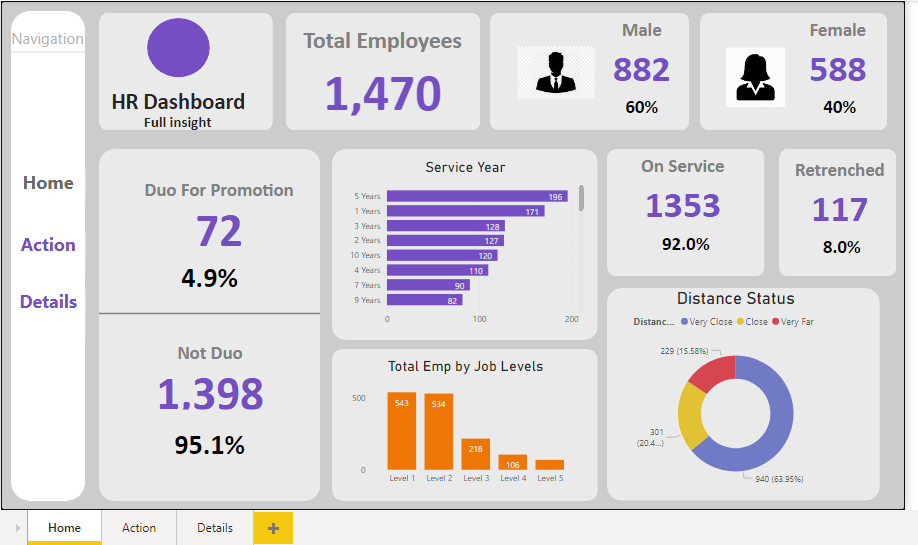

The dashboard page shown, as its layout file describes it:
{"tool":"powerbi","page":{"name":"Home","canvas":[1280,720],"ordinal":0},"visuals":[{"type":"shape","box":[14.1,14.1,104.7,693.1],"z":0},{"type":"shape","box":[138.6,17,246.1,165.5],"z":1000},{"type":"shape","box":[403.1,16.8,275.5,166.3],"z":2000},{"type":"shape","box":[692.1,16.8,282.2,166.3],"z":3000},{"type":"shape","box":[989.4,16.8,265.4,166.3],"z":4000},{"type":"shape","box":[138.6,209.4,312.6,497.9],"z":5000},{"type":"shape","box":[468.7,210,376.3,270.4],"z":6000},{"type":"shape","box":[468.7,492.2,376.3,215],"z":7000},{"type":"shape","box":[856.7,406.5,386.4,300.7],"z":8000},{"type":"shape","box":[856.7,210,223.4,179.7],"z":9000},{"type":"shape","box":[1100.3,210,166.3,179.7],"z":10000},{"type":"textbox","box":[119.3,117.6,263.7,120.9],"z":11000},{"type":"textbox","box":[79,152.9,346,60.5],"z":12000},{"type":"shape","box":[206.6,23.5,89,84],"z":13000},{"type":"card","title":"Total Employees","fields":{"Values":["All Measures.Total Emp"]},"box":[414.9,33.6,250.3,132.7],"z":14000},{"type":"card","title":"Male","fields":{"Values":["All Measures.Male"]},"box":[823.1,23.5,166.3,102.5],"z":15000},{"type":"card","title":"MALE","fields":{"Values":["All Measures.% male"]},"box":[823.1,107.5,166.3,84],"z":16000},{"type":"card","title":"MALE","fields":{"Values":["All Measures.% female"]},"box":[1103.6,107.5,166.3,84],"z":17000},{"type":"card","title":"Female","fields":{"Values":["All Measures.Female"]},"box":[1100.3,23.5,166.3,102.5],"z":18000},{"type":"image","box":[725.7,33.6,119.3,132.7],"z":19000},{"type":"image","box":[1011.2,60.5,110.9,94.1],"z":20000},{"type":"card","title":"Duo For Promotion","fields":{"Values":["All Measures.Duo for promotion"]},"box":[165.5,250.4,285.7,101.8],"z":21000},{"type":"card","title":"MALE","fields":{"Values":["All Measures.% Due For Promotion"]},"box":[211.7,346,166.3,84],"z":22000},{"type":"card","title":"Not Duo","fields":{"Values":["All Measures.Not Due"]},"box":[152.9,480.4,285.6,102.5],"z":23000},{"type":"card","title":"MALE","fields":{"Values":["All Measures.% Not Due"]},"box":[211.7,582.9,166.3,84],"z":24000},{"type":"shape","box":[138.6,312.6,312.6,258.9],"z":25000},{"type":"barChart","title":"Service Year","fields":{"Category":["HR Analytics Data.Service Year"],"Y":["All Measures.Total Emp"]},"box":[483.8,223.4,346,245.2],"z":26000},{"type":"columnChart","fields":{"Category":["HR Analytics Data.Job Levels "],"Y":["All Measures.Total Emp"]},"box":[490.5,505.6,332.6,188.1],"z":27000},{"type":"card","title":"On Service","fields":{"Values":["All Measures.On Service"]},"box":[881.8,216.6,166.3,102.5],"z":28000},{"type":"card","title":"MALE","fields":{"Values":["All Measures.% On Servie"]},"box":[885.2,300.6,166.3,84],"z":29000},{"type":"card","title":"Retrenched","fields":{"Values":["All Measures.Retrenched"]},"box":[1103.5,221.6,166.3,102.5],"z":30000},{"type":"card","title":"MALE","fields":{"Values":["All Measures.% Retrenched"]},"box":[1106.8,305.6,166.3,84],"z":31000},{"type":"donutChart","title":"Distance Status","fields":{"Category":["HR Analytics Data.Distance Status"],"Y":["All Measures.Total Emp"]},"box":[890.3,406.5,299,299],"z":32000},{"type":"actionButton","title":"Action","box":[14.1,326.8,104.7,62.2],"z":33000},{"type":"textbox","box":[4.2,32.5,123.1,52.3],"z":34000},{"type":"shape","box":[14.1,59.4,104.7,25.5],"z":35000},{"type":"actionButton","title":"Details ","box":[14.1,407.4,104.7,72.1],"z":36000},{"type":"actionButton","title":"Home","box":[14.1,239.1,104.7,50.9],"z":37000}]}

Visuals, with their boxes on the page's 1280x720 design canvas (x1, y1, x2, y2). These are canvas units, not pixel positions in the 918x545 screenshot, which may show the page scaled, cropped or inside an application window:
shape: {"left": 14, "top": 14, "right": 119, "bottom": 707}
shape: {"left": 139, "top": 17, "right": 385, "bottom": 182}
shape: {"left": 403, "top": 17, "right": 679, "bottom": 183}
shape: {"left": 692, "top": 17, "right": 974, "bottom": 183}
shape: {"left": 989, "top": 17, "right": 1255, "bottom": 183}
shape: {"left": 139, "top": 209, "right": 451, "bottom": 707}
shape: {"left": 469, "top": 210, "right": 845, "bottom": 480}
shape: {"left": 469, "top": 492, "right": 845, "bottom": 707}
shape: {"left": 857, "top": 406, "right": 1243, "bottom": 707}
shape: {"left": 857, "top": 210, "right": 1080, "bottom": 390}
shape: {"left": 1100, "top": 210, "right": 1267, "bottom": 390}
textbox: {"left": 119, "top": 118, "right": 383, "bottom": 238}
textbox: {"left": 79, "top": 153, "right": 425, "bottom": 213}
shape: {"left": 207, "top": 24, "right": 296, "bottom": 108}
"Total Employees" card: {"left": 415, "top": 34, "right": 665, "bottom": 166}
"Male" card: {"left": 823, "top": 24, "right": 989, "bottom": 126}
"MALE" card: {"left": 823, "top": 108, "right": 989, "bottom": 192}
"MALE" card: {"left": 1104, "top": 108, "right": 1270, "bottom": 192}
"Female" card: {"left": 1100, "top": 24, "right": 1267, "bottom": 126}
image: {"left": 726, "top": 34, "right": 845, "bottom": 166}
image: {"left": 1011, "top": 60, "right": 1122, "bottom": 155}
"Duo For Promotion" card: {"left": 166, "top": 250, "right": 451, "bottom": 352}
"MALE" card: {"left": 212, "top": 346, "right": 378, "bottom": 430}
"Not Duo" card: {"left": 153, "top": 480, "right": 438, "bottom": 583}
"MALE" card: {"left": 212, "top": 583, "right": 378, "bottom": 667}
shape: {"left": 139, "top": 313, "right": 451, "bottom": 572}
"Service Year" barChart: {"left": 484, "top": 223, "right": 830, "bottom": 469}
columnChart - HR Analytics Data.Job Levels  x All Measures.Total Emp: {"left": 490, "top": 506, "right": 823, "bottom": 694}
"On Service" card: {"left": 882, "top": 217, "right": 1048, "bottom": 319}
"MALE" card: {"left": 885, "top": 301, "right": 1052, "bottom": 385}
"Retrenched" card: {"left": 1104, "top": 222, "right": 1270, "bottom": 324}
"MALE" card: {"left": 1107, "top": 306, "right": 1273, "bottom": 390}
"Distance Status" donutChart: {"left": 890, "top": 406, "right": 1189, "bottom": 706}
"Action" actionButton: {"left": 14, "top": 327, "right": 119, "bottom": 389}
textbox: {"left": 4, "top": 32, "right": 127, "bottom": 85}
shape: {"left": 14, "top": 59, "right": 119, "bottom": 85}
"Details " actionButton: {"left": 14, "top": 407, "right": 119, "bottom": 480}
"Home" actionButton: {"left": 14, "top": 239, "right": 119, "bottom": 290}
